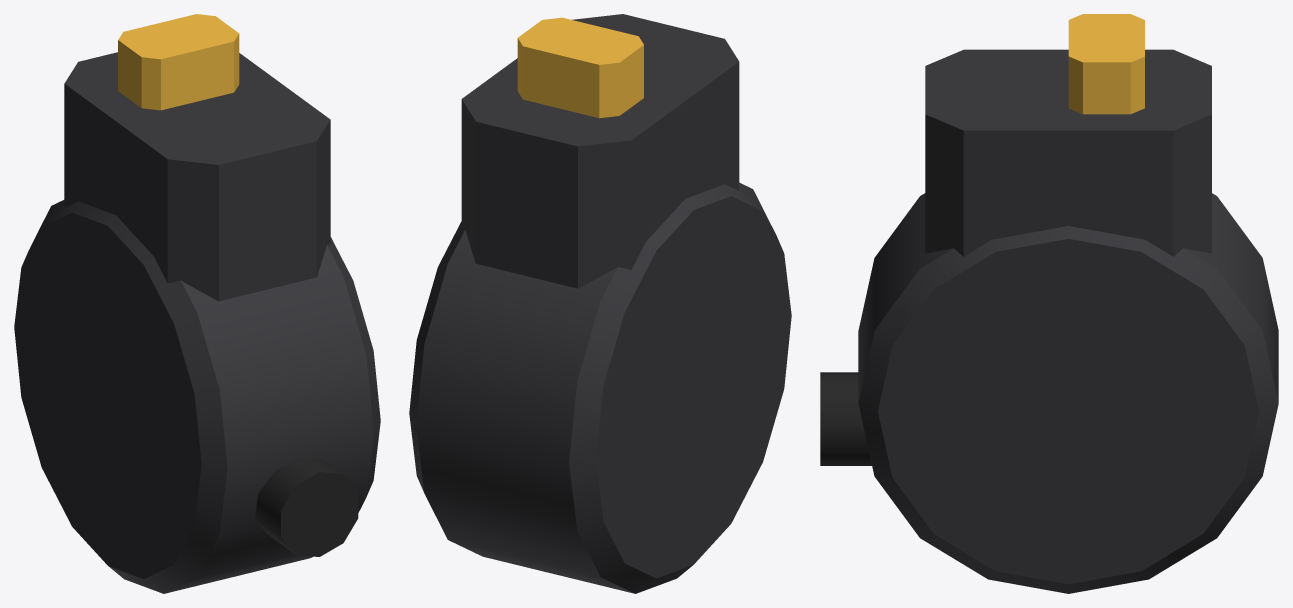
File: throttle.glb
3 views of the same model, side by side, from view 1: azimuth 30°, elevation 25°; view 2: azimuth 150°, elevation 25°; view 3: azimuth 270°, elevation 25° (orthographic). The views are drawn at different scales.
Parts seen in each view (by area): view 1: lod0; view 2: lod0; view 3: lod0.
Boxes of the visible parts, <box> form: lod0: <box>14,14,380,593</box>; lod0: <box>409,14,791,593</box>; lod0: <box>820,14,1278,593</box>.
Size of what is drawn, in the model's own units: 0.022 by 0.06 by 0.048.
